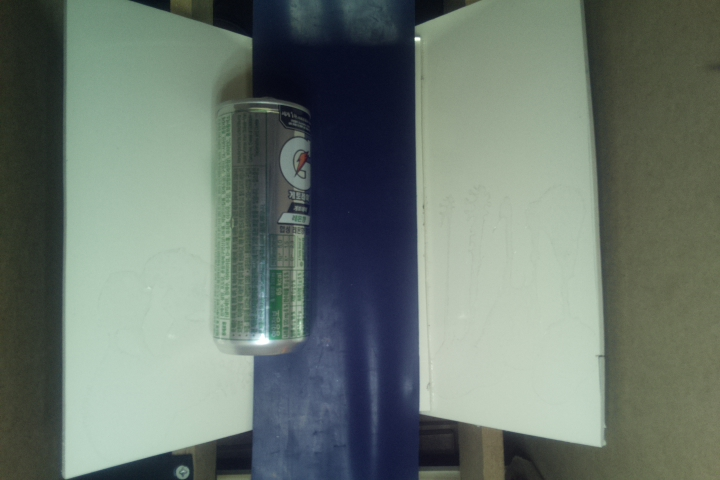can: (212, 99, 313, 354)
